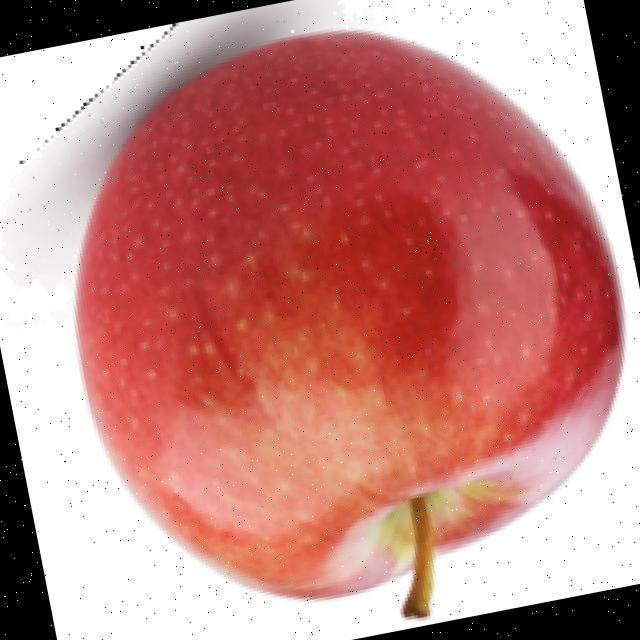apple: (0, 0, 631, 621)
